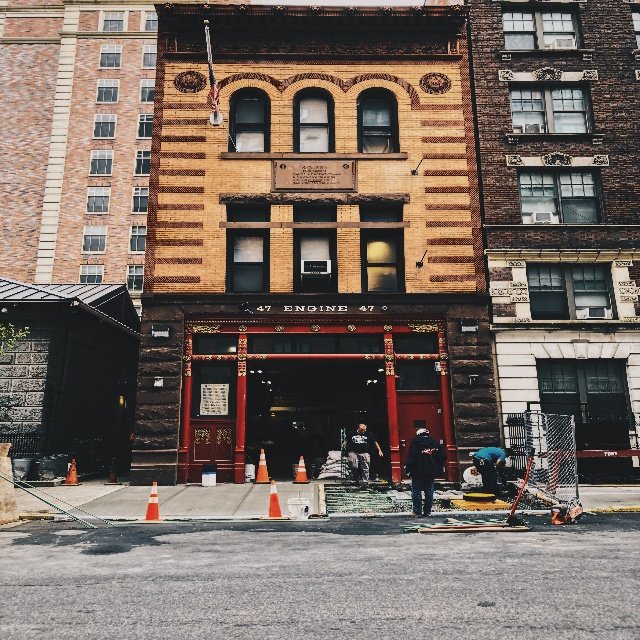Sin_guantes: (378, 450, 383, 459)
